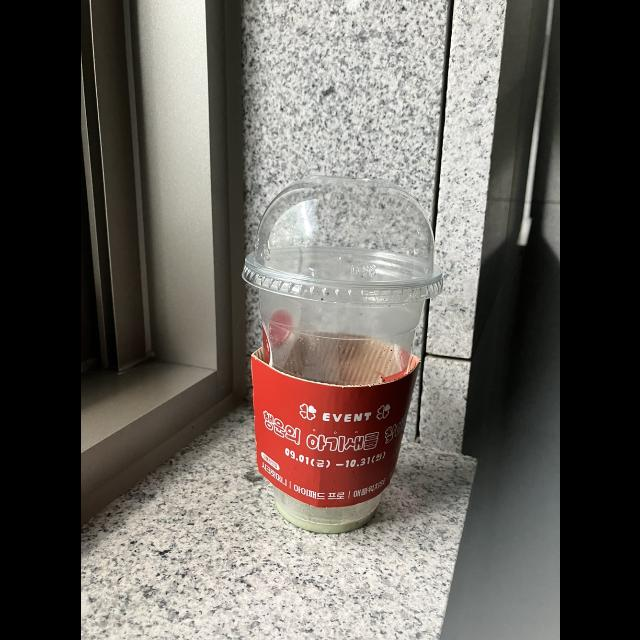plastic_cup: (241, 178, 444, 534)
plastic_cup_lid: (234, 178, 443, 306)
